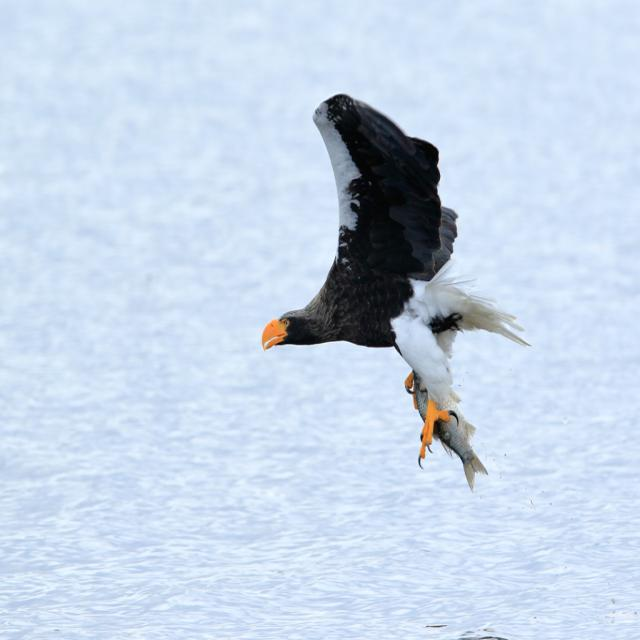bird: (254, 86, 534, 488)
